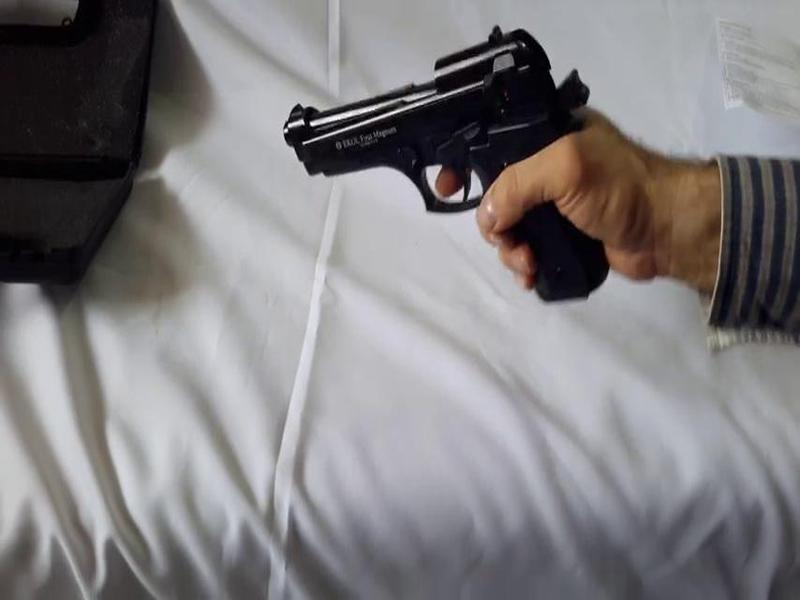Pistola: (265, 36, 607, 307)
